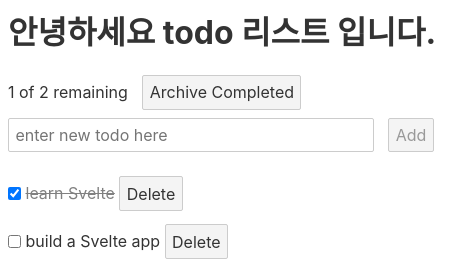
it: TodoList › should delete a todo
Click the button "Delete" next to "learn Svelte" at {"x": 151, "y": 194}, box x1=119 y1=176 x2=183 y2=211
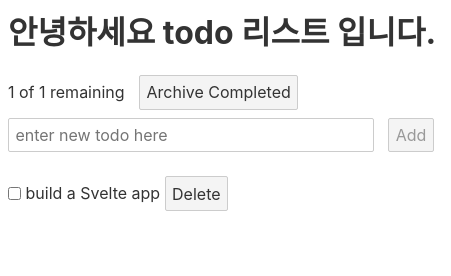
Expected: the number of list items is 1, x1=8 y1=176 x2=228 y2=211
